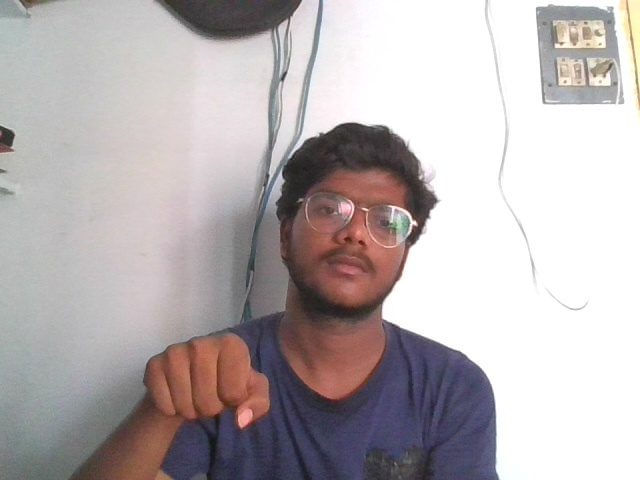Yes: (137, 328, 283, 427)
